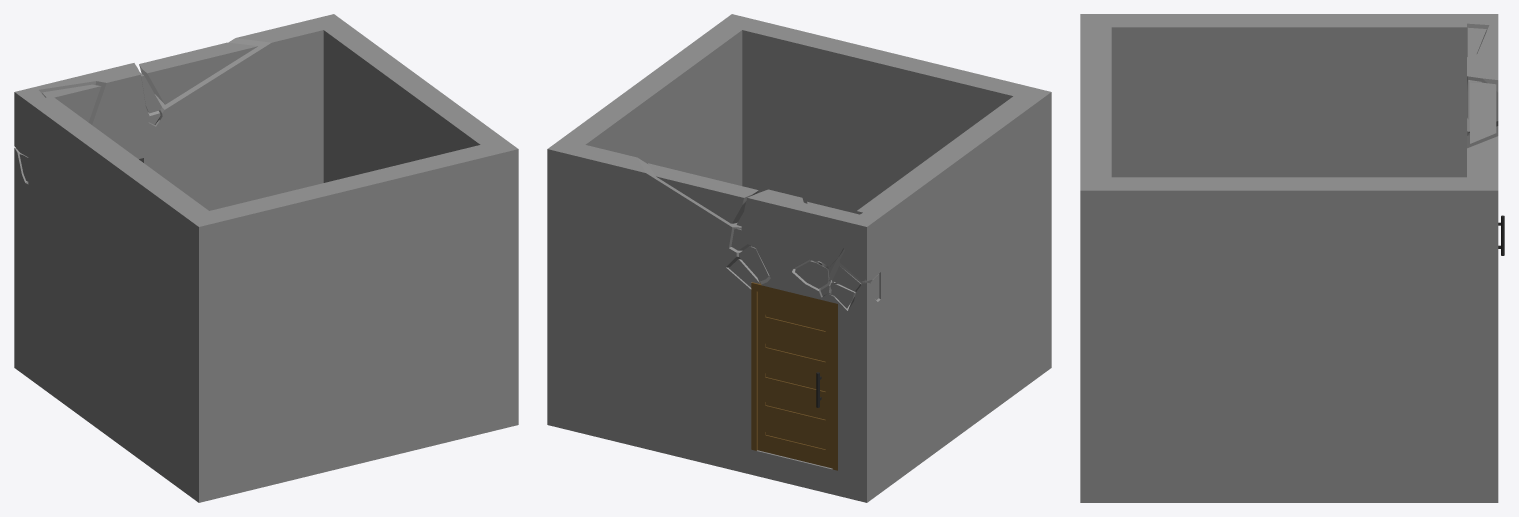
File: MSH_Room_SingleDoor_Front_Damaged_04.fbx
The picture shows the model from 3 angles, left to right: view 1: azimuth 30°, elevation 25°; view 2: azimuth 150°, elevation 25°; view 3: azimuth 270°, elevation 25°; orthographic projection. The views are drawn at different scales.
Visible parts, largest first — view 1: MSH_Room_SingleDoor_Front013, MSH_Room_SingleDoor_Front_Damaged_04; view 2: MSH_Room_SingleDoor_Front013, MSH_Room_SingleDoor_Front_Damaged_04, MSH_DoorFrame_Single (×2); view 3: MSH_Room_SingleDoor_Front013, MSH_Room_SingleDoor_Front_Damaged_04.
Boxes of the visible parts, bbox=[...] form: MSH_Room_SingleDoor_Front013: bbox=[14, 24, 518, 502]; MSH_Room_SingleDoor_Front_Damaged_04: bbox=[14, 14, 347, 352]; MSH_Room_SingleDoor_Front013: bbox=[547, 14, 1051, 502]; MSH_Room_SingleDoor_Front_Damaged_04: bbox=[547, 139, 880, 477]; MSH_DoorFrame_Single (×2): bbox=[751, 281, 837, 470]; MSH_Room_SingleDoor_Front013: bbox=[1080, 14, 1498, 502]; MSH_Room_SingleDoor_Front_Damaged_04: bbox=[1467, 14, 1498, 474].
Size of the model in its own units: 157 by 130 by 160.
